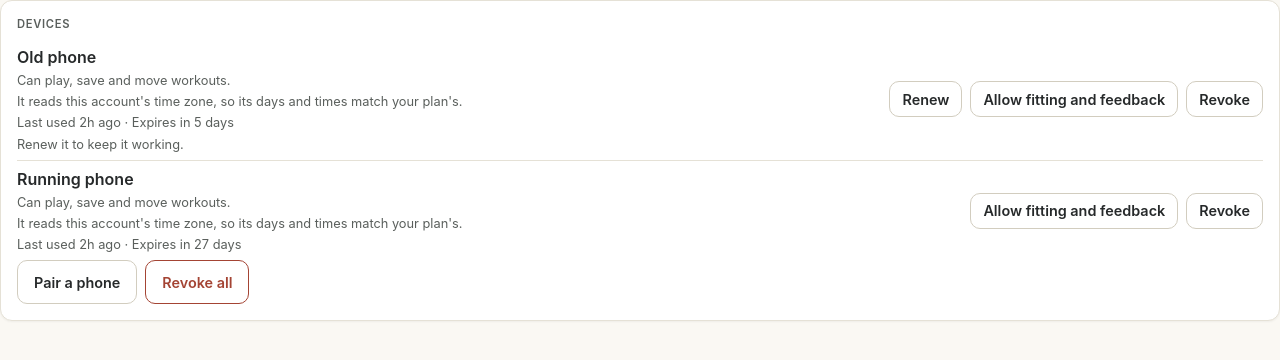
Test: Settings → Devices › Renew (LifeOS Q-172): one line first, sending nothing; Renew sends it, and the row says 30 days, its hint and button gone
Click the button "Renew" at [926, 99], box x1=890 y1=81 x2=962 y2=117
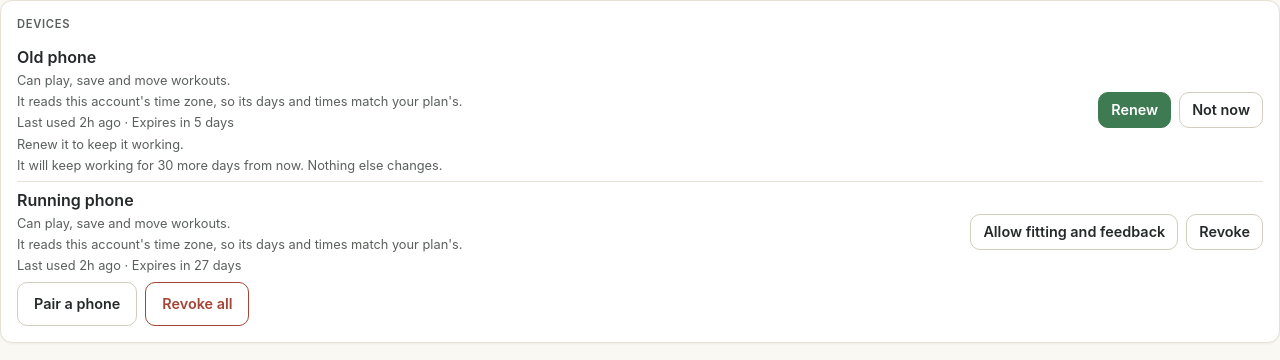
Expected: the element with class "setting-row" does not show "It will keep working for 30 more days from now. Nothing else changes."
Result: the element with class "setting-row" shows "It will keep working for 30 more days from now. Nothing else changes." at x1=17 y1=158 x2=442 y2=173
Click the button "Renew" at [1135, 110], box x1=1098 y1=92 x2=1171 y2=128
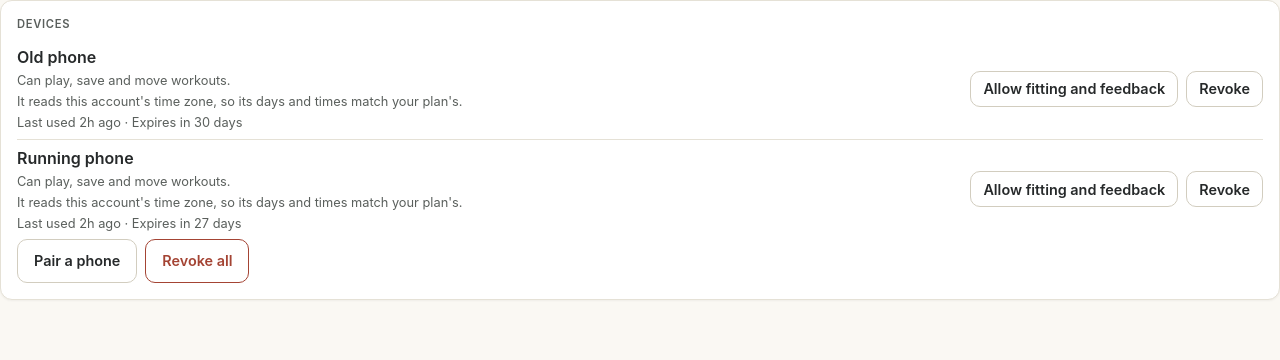
Result: the element with class "setting-row" shows "Expires in 30 days" at x1=132 y1=115 x2=242 y2=130
Result: the text with class "setting-row" no longer shows "It will keep working for 30 more days from now. Nothing else changes."
Result: the text with class "setting-row" no longer shows "Renew it to keep it working."
